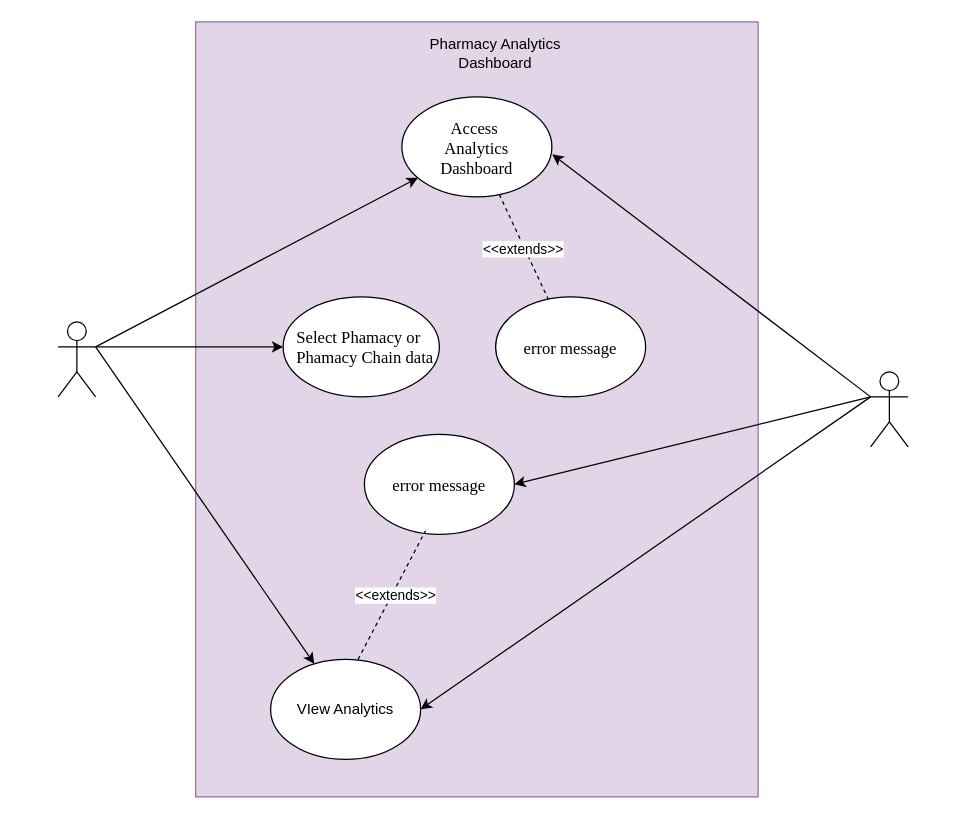
The diagram is 954 pixels wide and 819 high, and some of its shapes have lost their labels. Here are the shapes that lost their labels. From the top down, the centre of each, then its label:
[76,359]: Phamacy Owner
[888,409]: POS System
